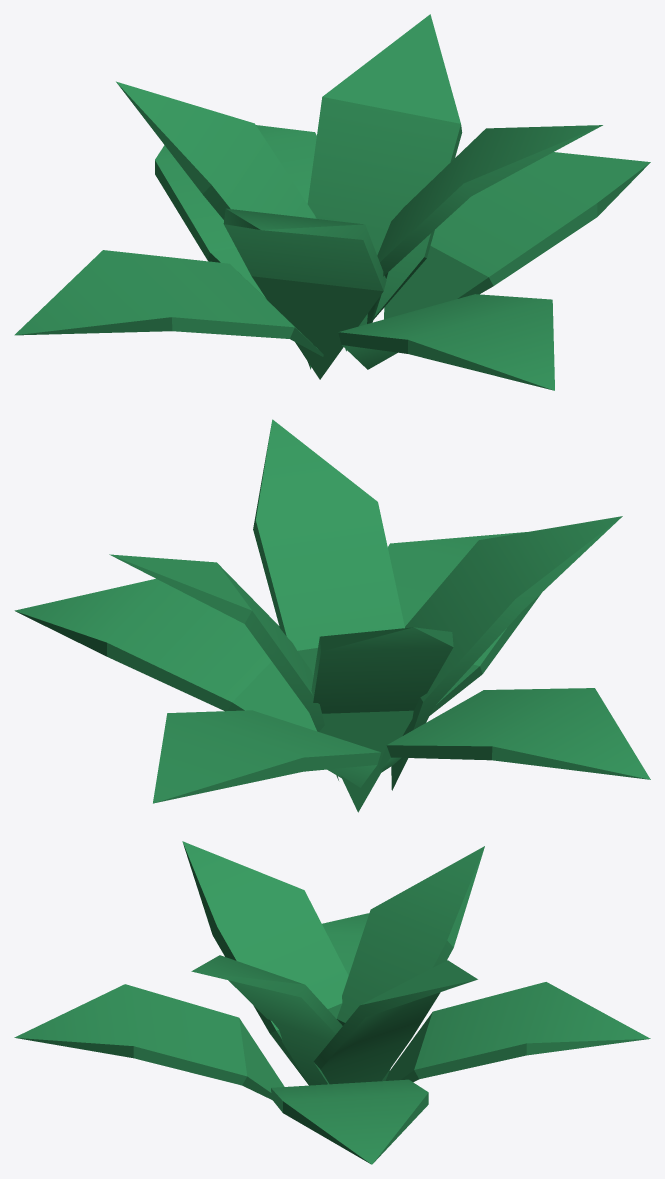
File: cao03.FBX
3 views of the same model, one above another, from view 1: azimuth 30°, elevation 25°; view 2: azimuth 150°, elevation 25°; view 3: azimuth 270°, elevation 25° (orthographic). The views are drawn at different scales.
Parts seen in each view (by area): view 1: cao03; view 2: cao03; view 3: cao03.
Part boxes in pixels (box(x1,y1,x2,y2)): cao03: box(14, 14, 650, 390); cao03: box(14, 419, 650, 812); cao03: box(14, 841, 650, 1164).
Bounding box in the file's own units: 72.47 × 29.74 × 73.56.
